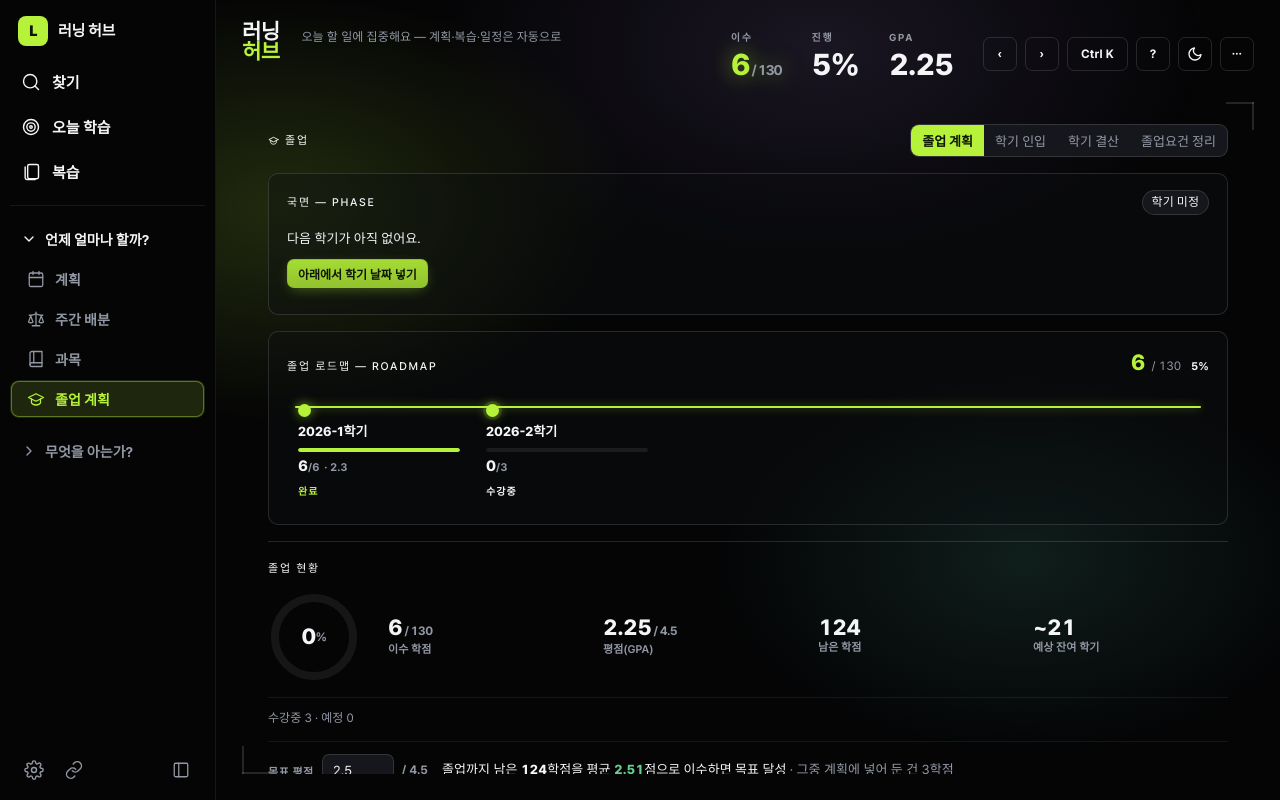
Scenario: 졸업요건 정리: 내 degree 데이터로 요건 충족·재수강 후보를 계산해 렌더(레거시 #page 미사용)
This screenshot has width=1280, height=800.
Note: 기본은 '졸업 계획' — 세그먼트로 '졸업요건 정리'로 전환.
Click the button "졸업요건 정리" at (1179, 140), box [1130,125,1227,156]
(page scrolled)
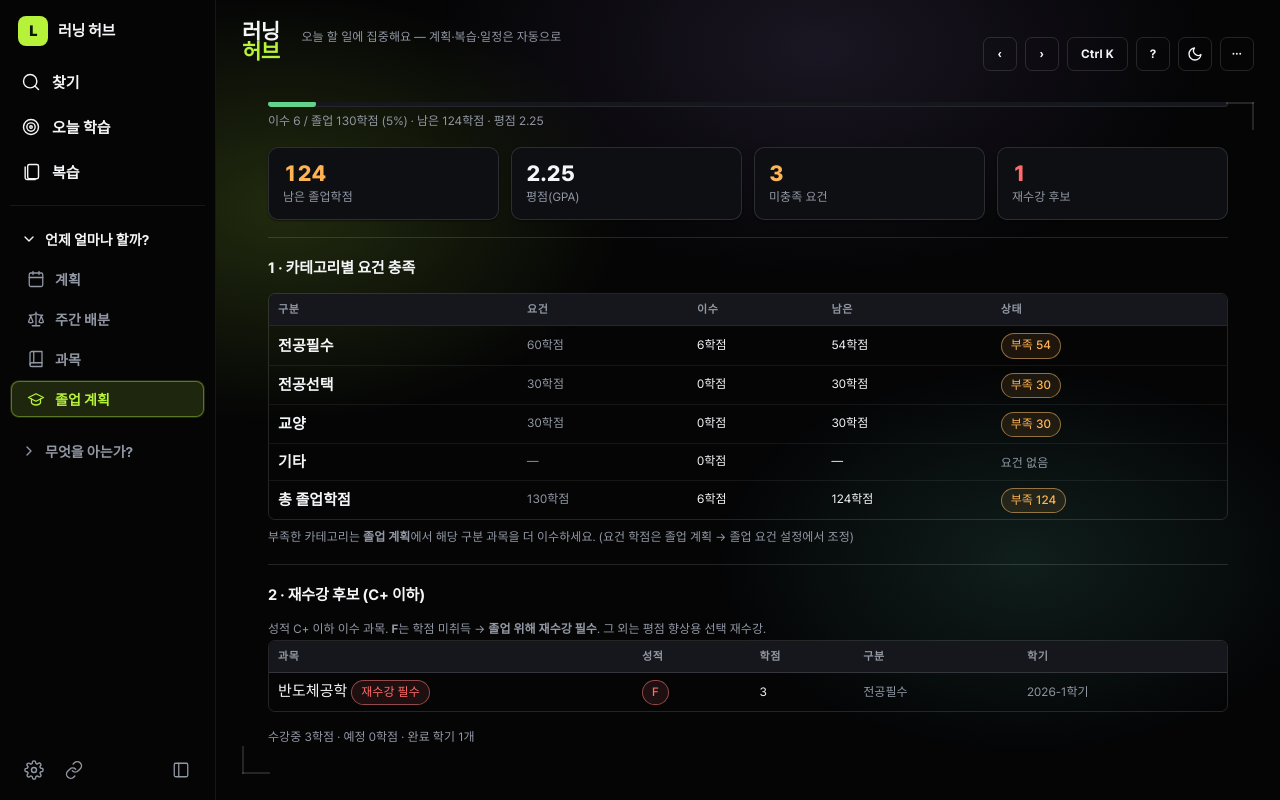
Result: the heading "1 · 카테고리별 요건 충족" is shown at [268,259,415,277]
Result: the text "남은 졸업학점" is shown at [283,190,353,204]
Result: the text "전공필수" next to "60학점" is shown at [278,336,334,354]
